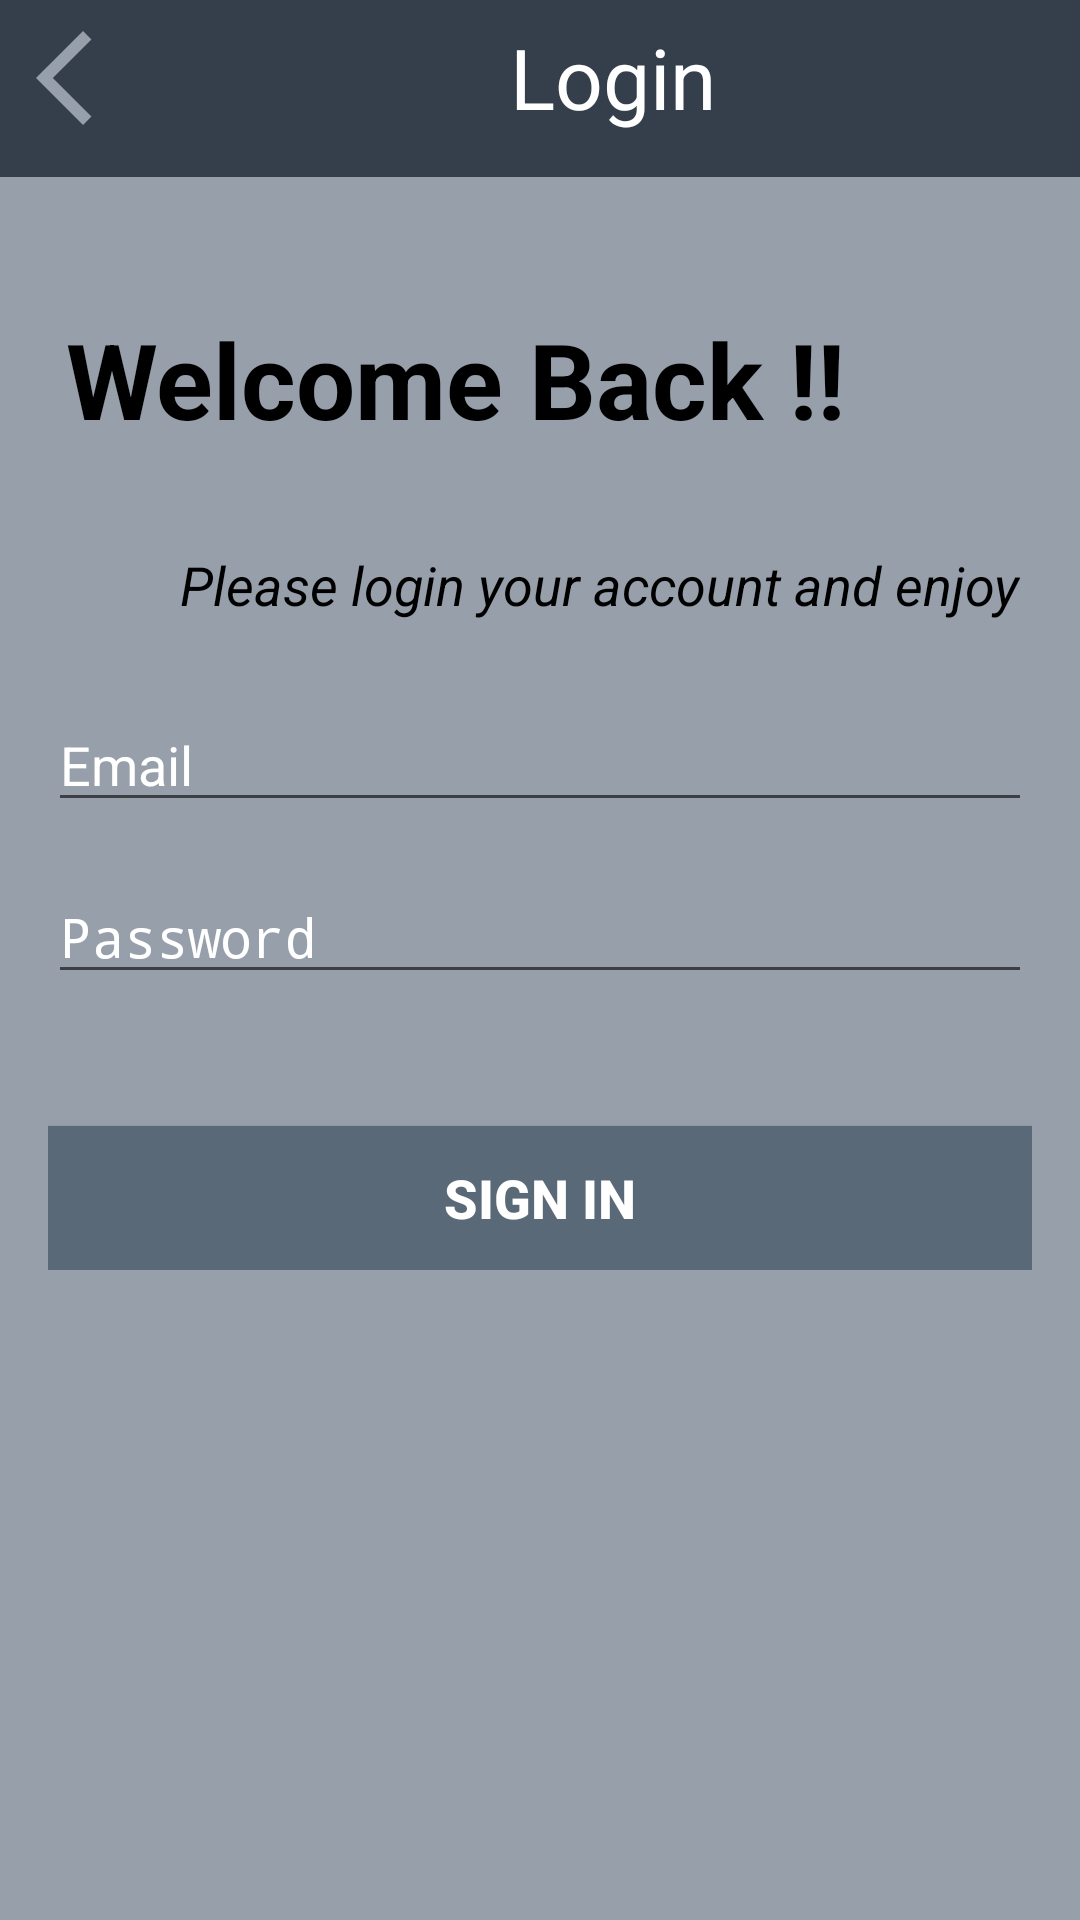

Icons on this 1080×1920 Android screen, each with the point to tap as [x,y]:
back arrow: [63,78]
